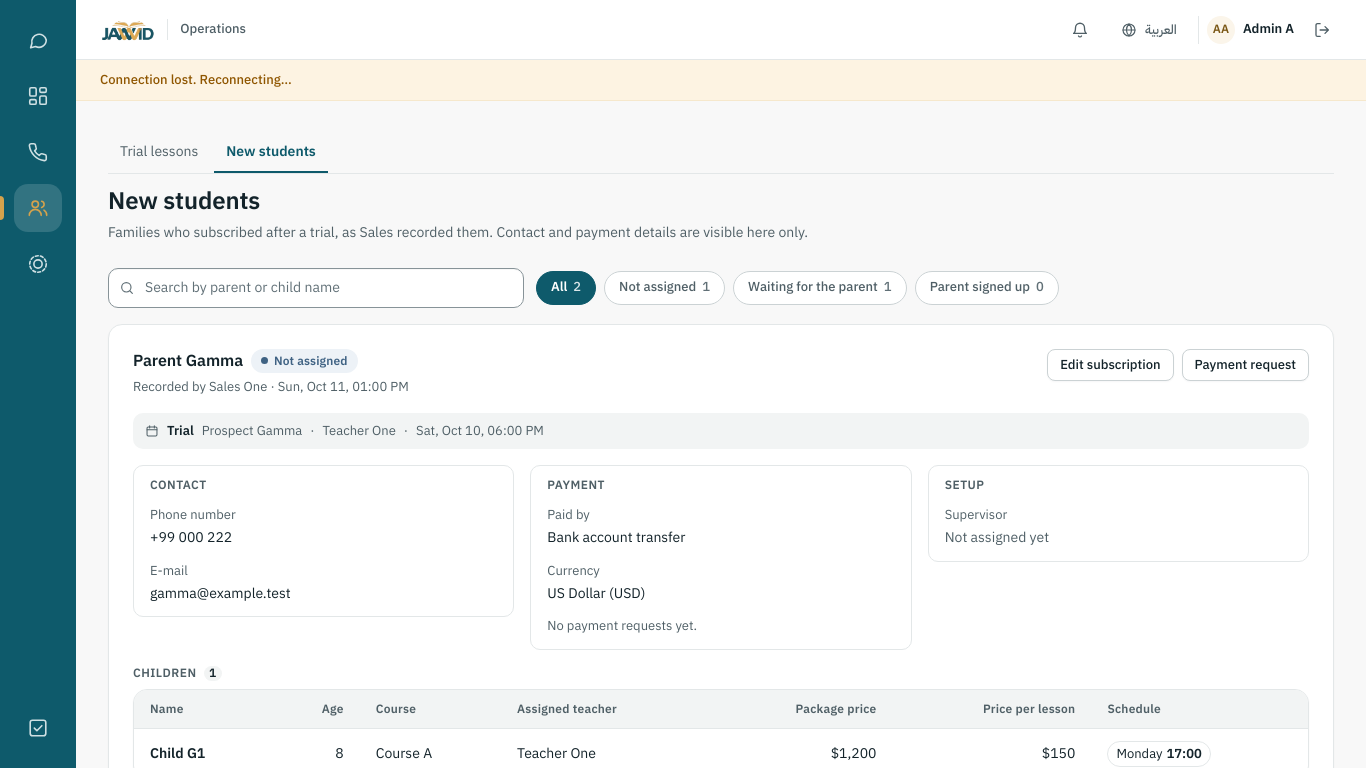
Test case: New Students > Payment request (before Assign) › is offered on a card not yet assigned; prefills the suggested amount; sends the documented body and shows the link
Click the button "Payment request". click: (1245, 364)
box: [1182,348,1309,380]
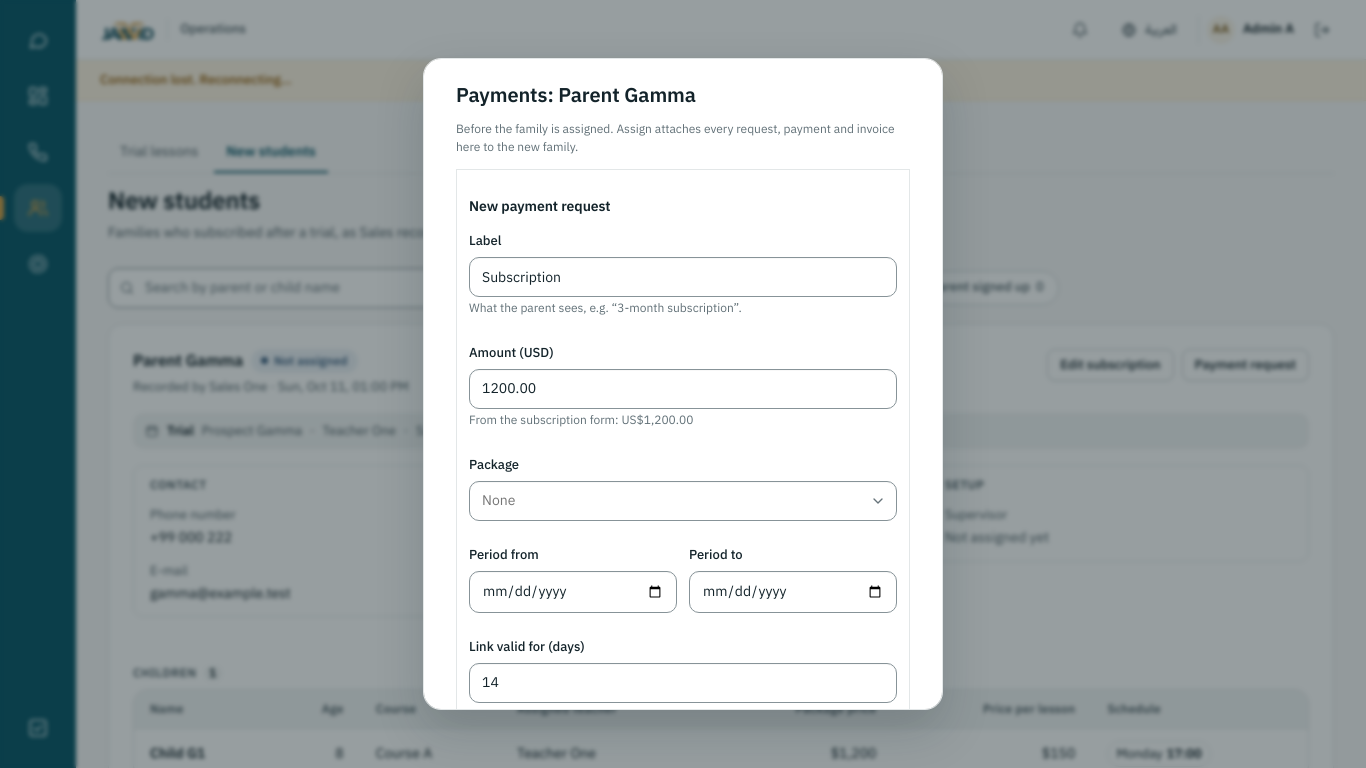
Now the field labelled "Amount (USD)" holds "1200.00", box [469,369,897,409]
Now the text "From the subscription form: US$1,200.00" is shown, box [469,411,694,429]
Now the field labelled "Label" holds "Subscription"
Replace the text in the field labelled "Label" with "Subscription, 3 months". click: (683, 277)
box: [469,257,897,297]
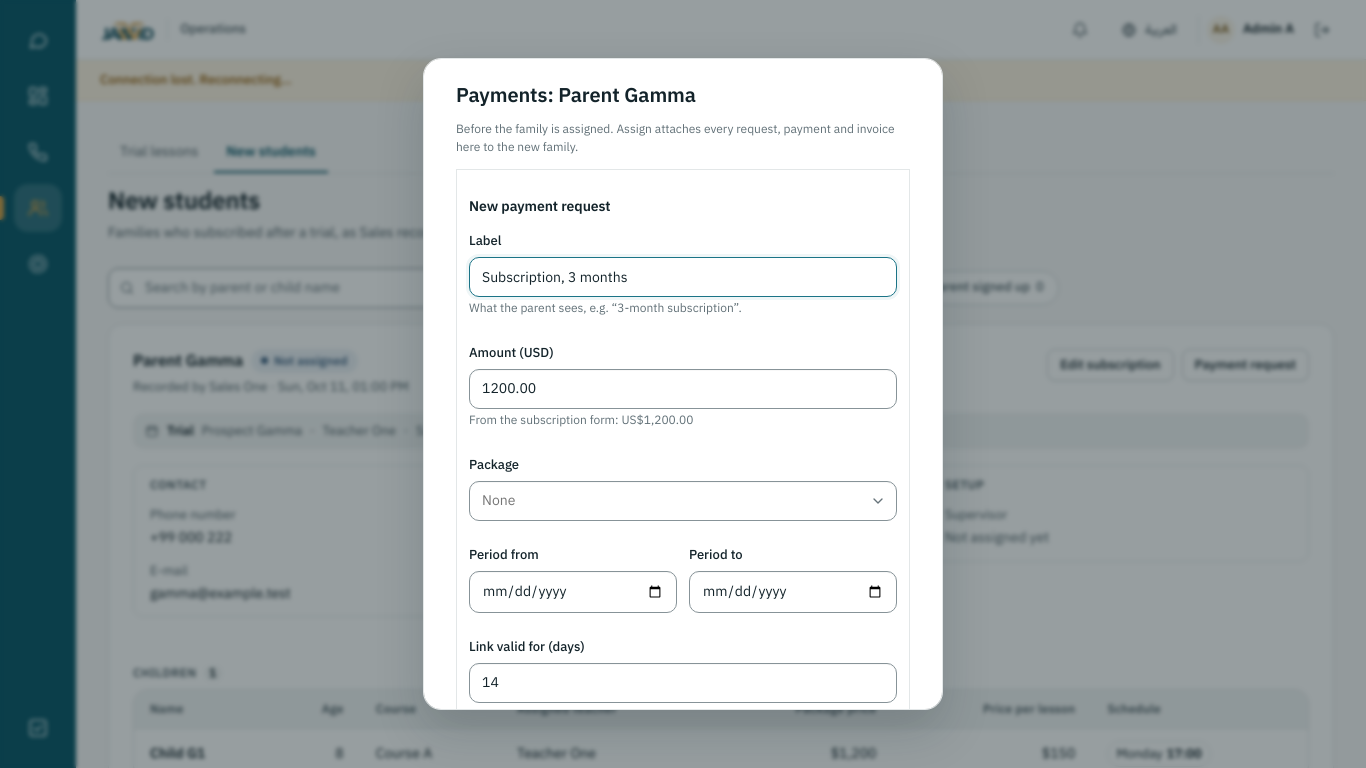
Click the dropdown labelled "Package". click: (683, 501)
box: [469,481,897,521]
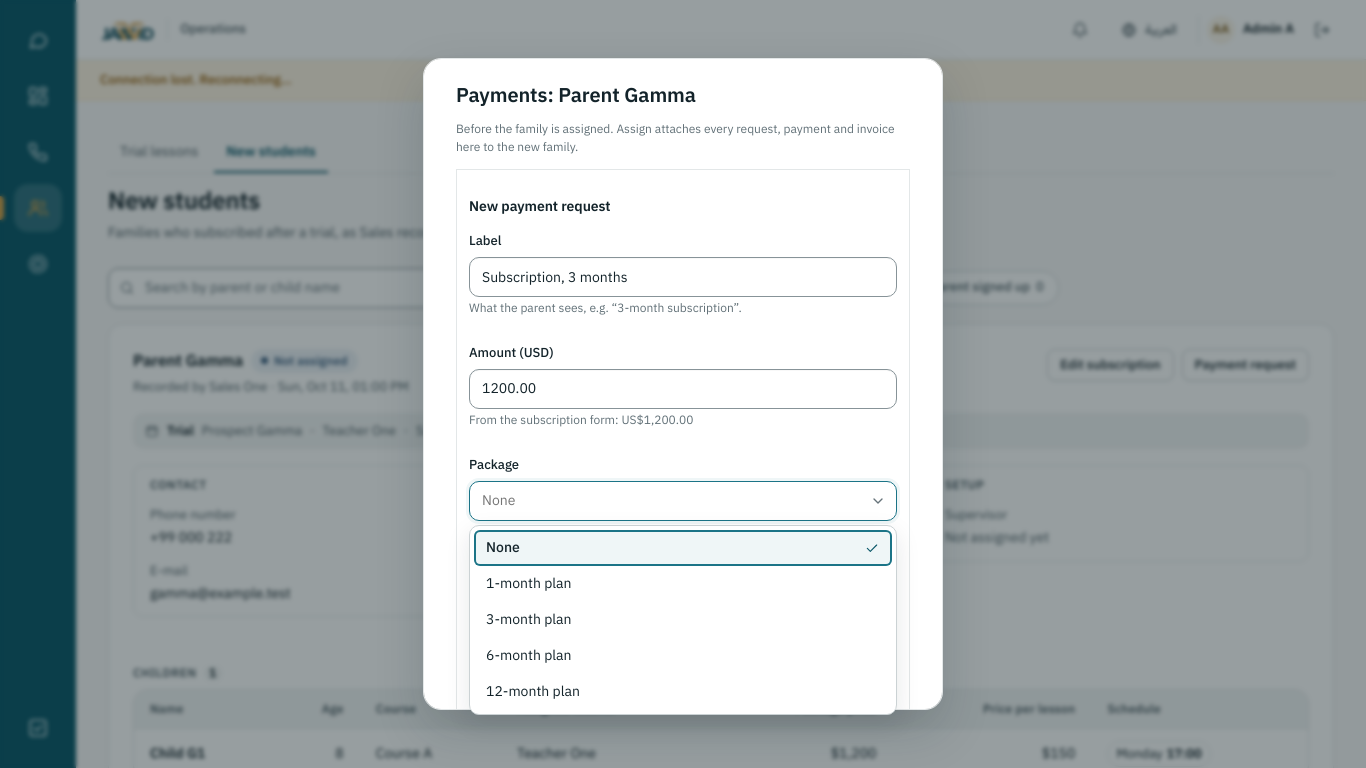
Click the option "3-month plan". click: (529, 620)
box: [486,609,572,630]
(page scrolled)
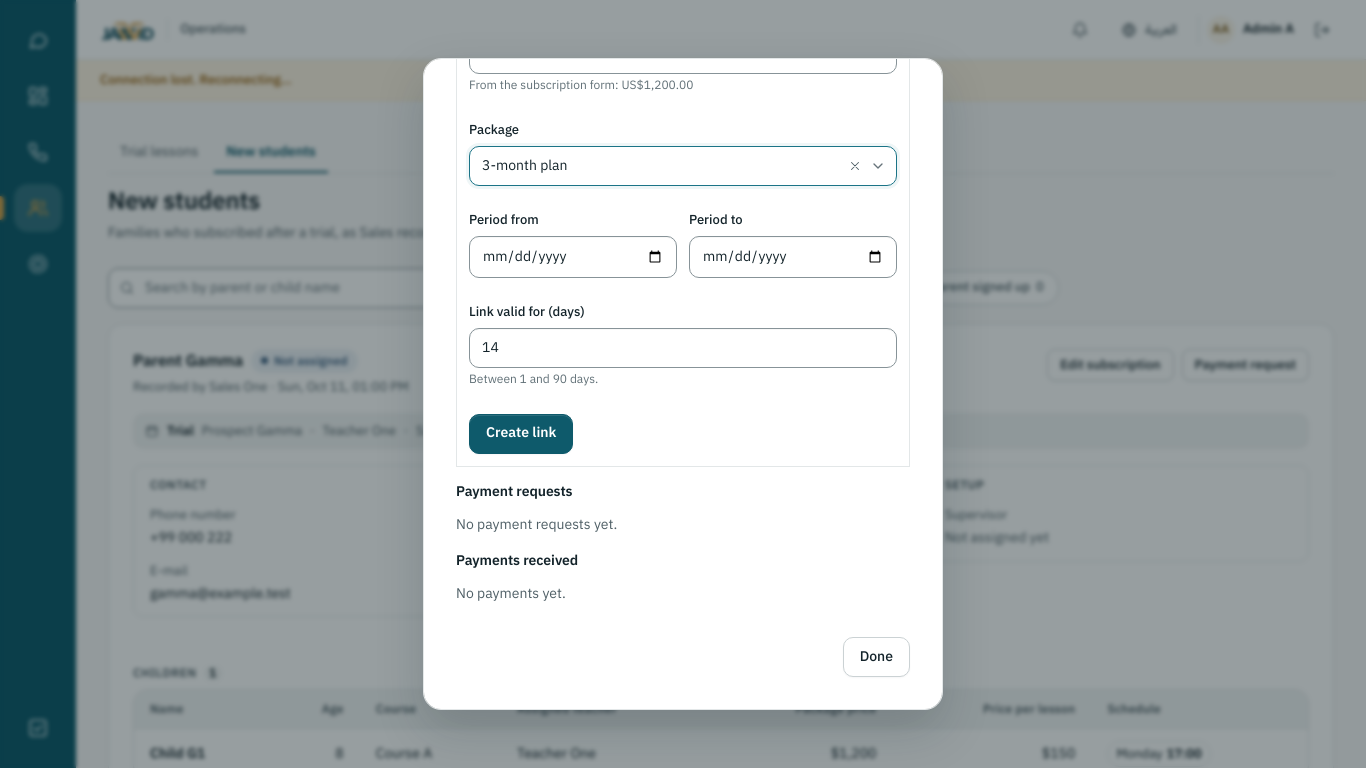
Click the button "Create link". click: (521, 434)
box: [469,414,573,454]
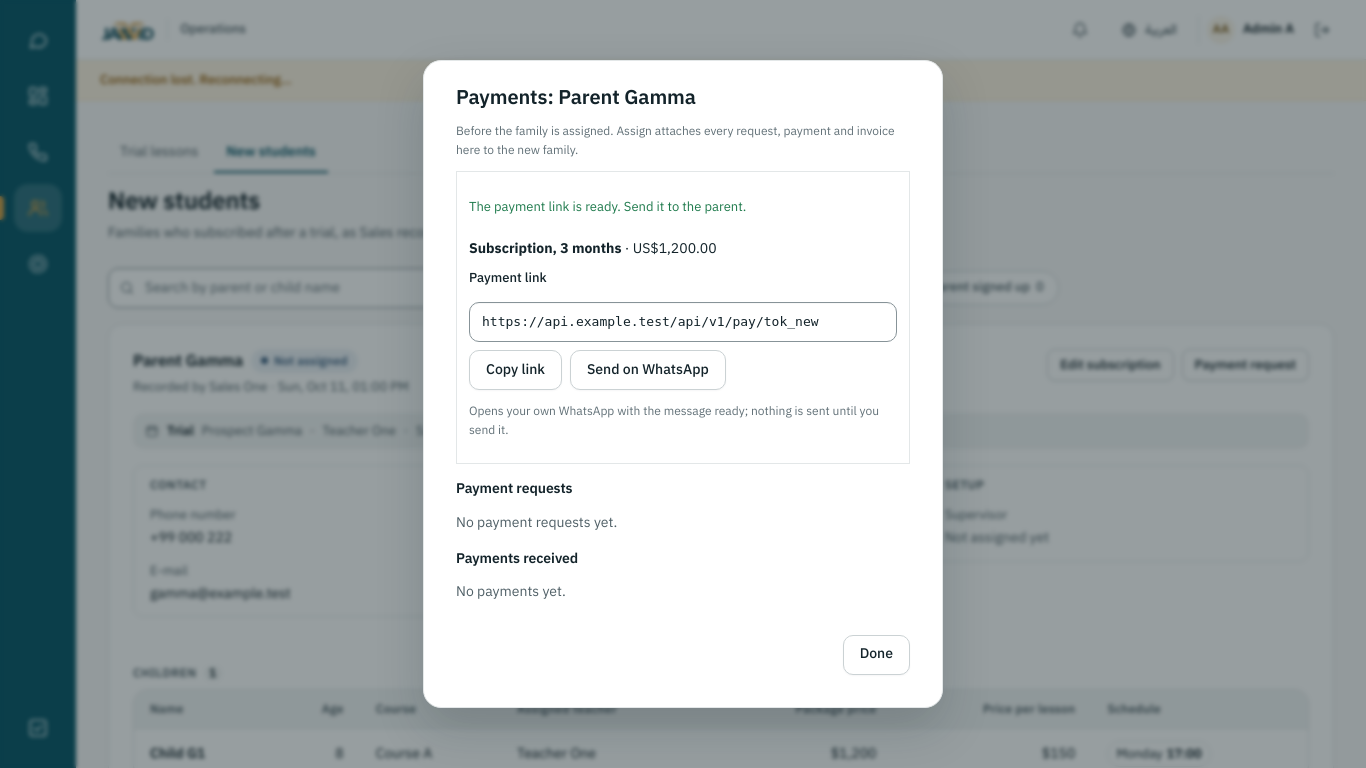
Now the field labelled "Payment link" holds "https://api.example.test/api/v1/pay/tok_new", box [469,302,897,342]
